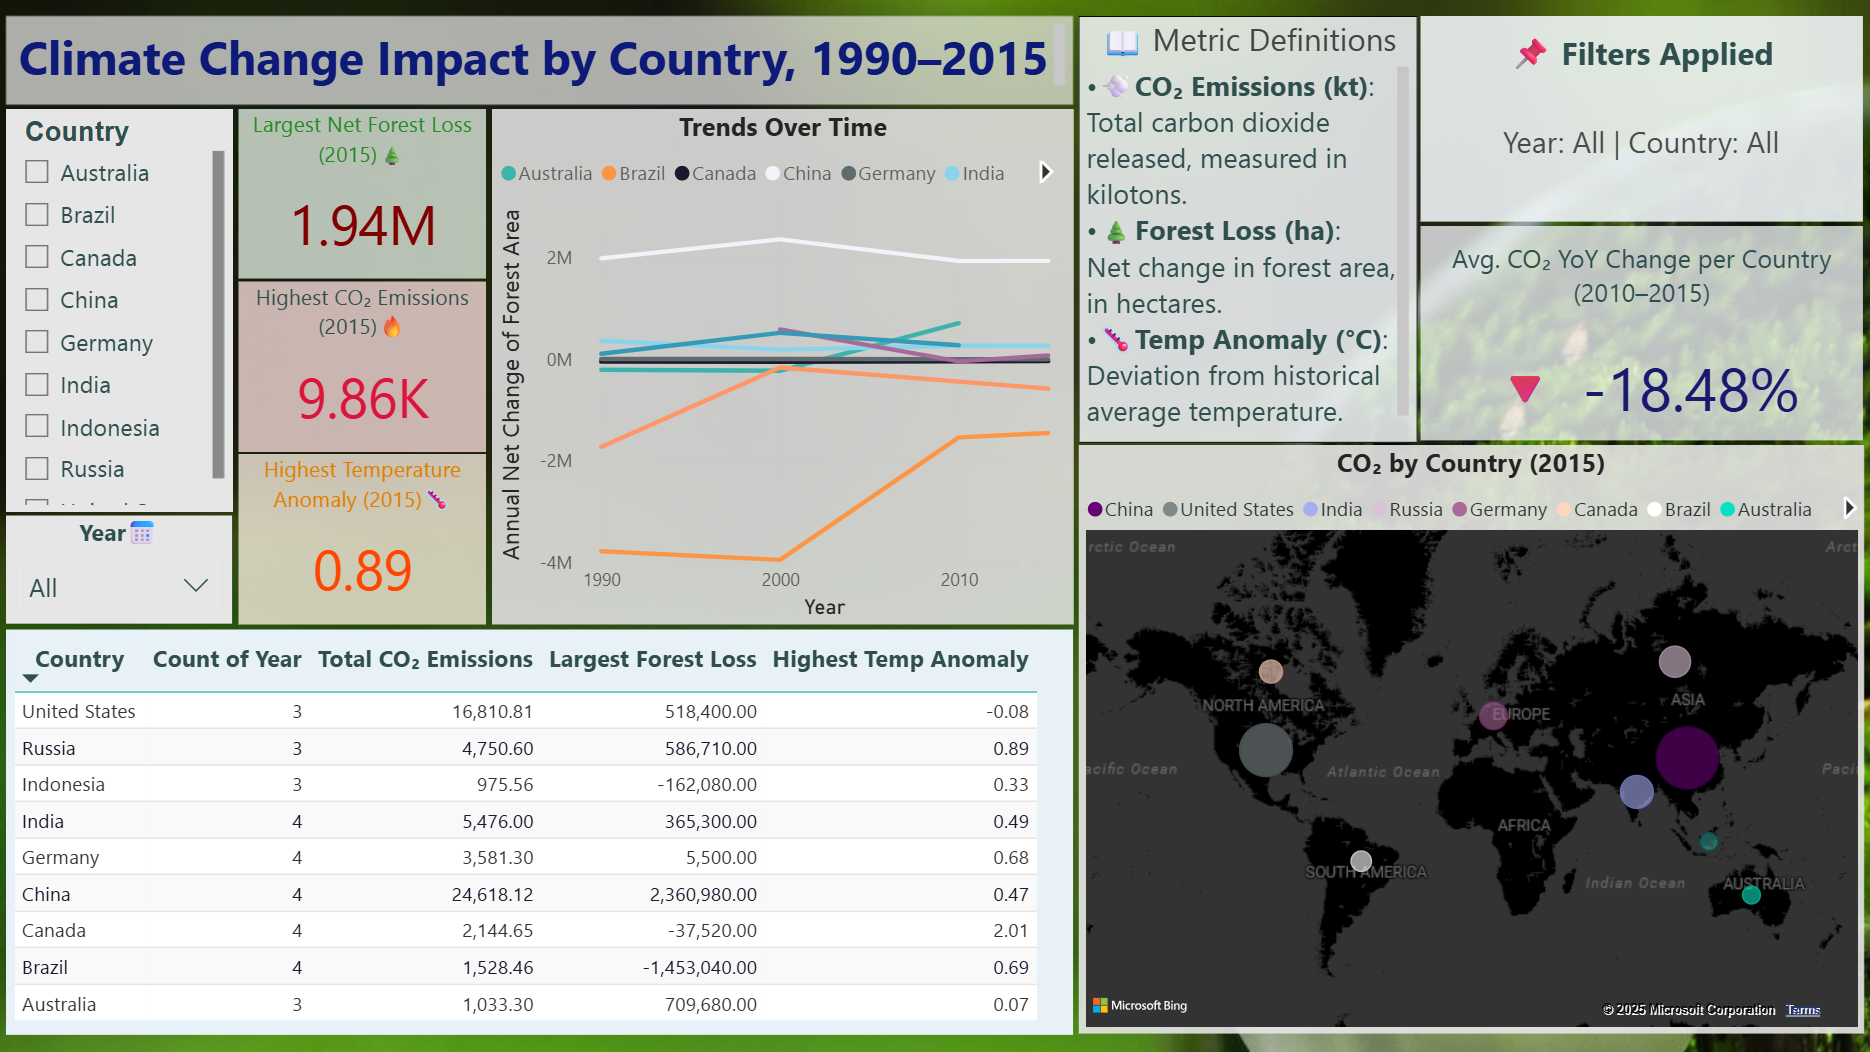

The dashboard page shown, as its layout file describes it:
{"tool":"powerbi","page":{"name":"Page 1","canvas":[1280,720],"ordinal":0},"visuals":[{"type":"textbox","title":"Climate Change Impact by Country, 1990–2015","box":[12.1,12.1,723.8,71.2],"z":0},{"type":"slicer","title":"Country","fields":{"Values":["climate_dashboard_clean.country"]},"box":[12.1,90.9,146.9,260.4],"z":1000},{"type":"slicer","title":"Year","fields":{"Values":["climate_dashboard_clean.Year"]},"box":[12.1,355.8,146.9,69.7],"z":2000},{"type":"card","title":"Highest CO₂ Emissions (2015)","fields":{"Values":["ClimateData.Highest CO2 Emission (2015)"]},"box":[166.6,204.4,159,109],"z":3000},{"type":"card","title":"Highest Temperature Anomaly (2015)","fields":{"Values":["ClimateData.Highest Temperature Anomaly (2015)"]},"box":[166.6,318,159,107.5],"z":4000},{"type":"card","title":"Largest Net Forest Loss (2015)","fields":{"Values":["ClimateData.Largest Net Forest Loss (2015)"]},"box":[166.6,90.9,159,109],"z":5000},{"type":"cardVisual","title":"Avg. CO₂ YoY Change per Country (2010–2015)","fields":{"Data":["ClimateData.CO2 YoY Change (Per Country)"]},"box":[331.6,266.5,186.2,159],"z":6000},{"type":"map","title":"CO₂ by Country (2015)","fields":{"Size":["Sum(ClimateData.co2)"],"Series":["ClimateData.Entity"],"Category":["ClimateData.Entity"]},"box":[740.4,289.2,528.5,419.4],"z":7000},{"type":"lineChart","title":"Trends Over Time","fields":{"Category":["ClimateData.Year"],"Series":["ClimateData.Entity"],"Y":["Sum(ClimateData.Annual net change in forest area)"]},"box":[740.4,12.1,528.5,272.6],"z":8000},{"type":"tableEx","fields":{"Values":["ClimateData.Entity","CountNonNull(ClimateData.Year)","Sum(ClimateData.co2)","Max(ClimateData.Annual net change in forest area)","Max(ClimateData.Temperature anomaly)"]},"box":[12.1,431.5,723.8,277.1],"z":9000},{"type":"textbox","title":"Metric Definitions","box":[522.4,90.9,213.5,334.6],"z":10000},{"type":"cardVisual","title":"Current Filter Selection","fields":{"Data":["ClimateData.FilterSummary2"]},"box":[331.6,90.9,186.2,104.5],"z":11000},{"type":"cardVisual","title":"Current Filter Selection","fields":{"Data":["ClimateData.FilterSummary"]},"box":[331.6,195.3,186.2,65.1],"z":11001}]}

Visuals, with their boxes in screenshot pixels (x1, y1, x2, y2), scaled from the page's 1280x720 canvas onto the 1870x1052 screenshot:
"Climate Change Impact by Country, 1990–2015" textbox: BBox(18, 18, 1075, 122)
"Country" slicer: BBox(18, 133, 232, 513)
"Year" slicer: BBox(18, 520, 232, 622)
"Highest CO₂ Emissions (2015)" card: BBox(243, 299, 476, 458)
"Highest Temperature Anomaly (2015)" card: BBox(243, 465, 476, 622)
"Largest Net Forest Loss (2015)" card: BBox(243, 133, 476, 292)
"Avg. CO₂ YoY Change per Country (2010–2015)" cardVisual: BBox(484, 389, 756, 622)
"CO₂ by Country (2015)" map: BBox(1082, 423, 1854, 1035)
"Trends Over Time" lineChart: BBox(1082, 18, 1854, 416)
tableEx - ClimateData.Entity x CountNonNull(ClimateData.Year): BBox(18, 630, 1075, 1035)
"Metric Definitions" textbox: BBox(763, 133, 1075, 622)
"Current Filter Selection" cardVisual: BBox(484, 133, 756, 286)
"Current Filter Selection" cardVisual: BBox(484, 285, 756, 380)
